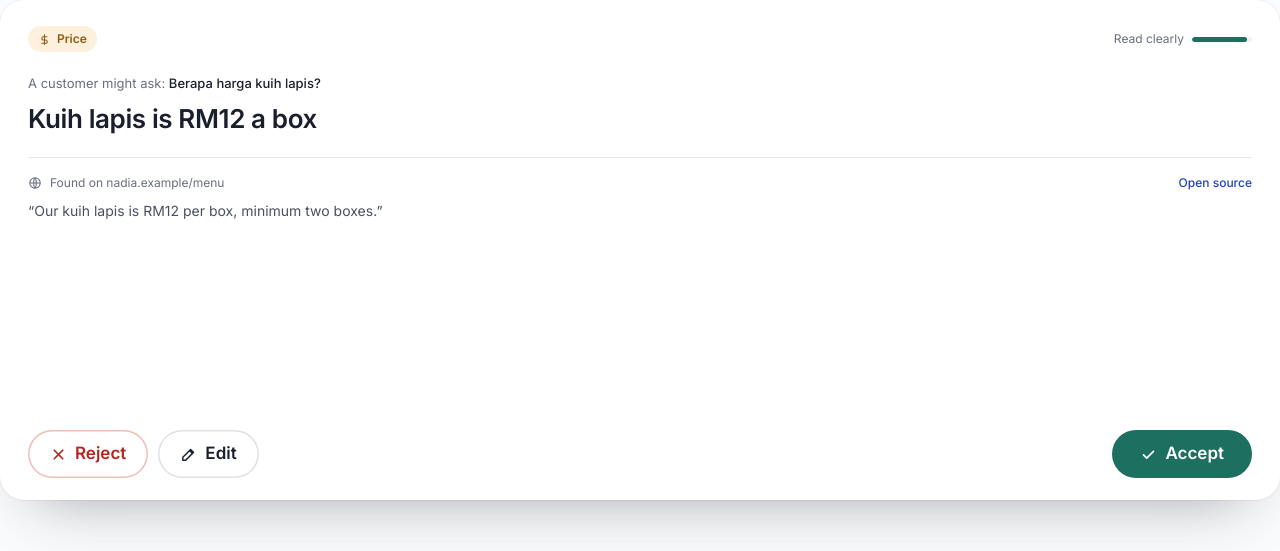
it: FactCard › closes the textarea after a successful edit
The width and height of the screenshot is (1280, 551).
Click the button "Edit". click: (208,454)
box: x1=158 y1=430 x2=259 y2=478
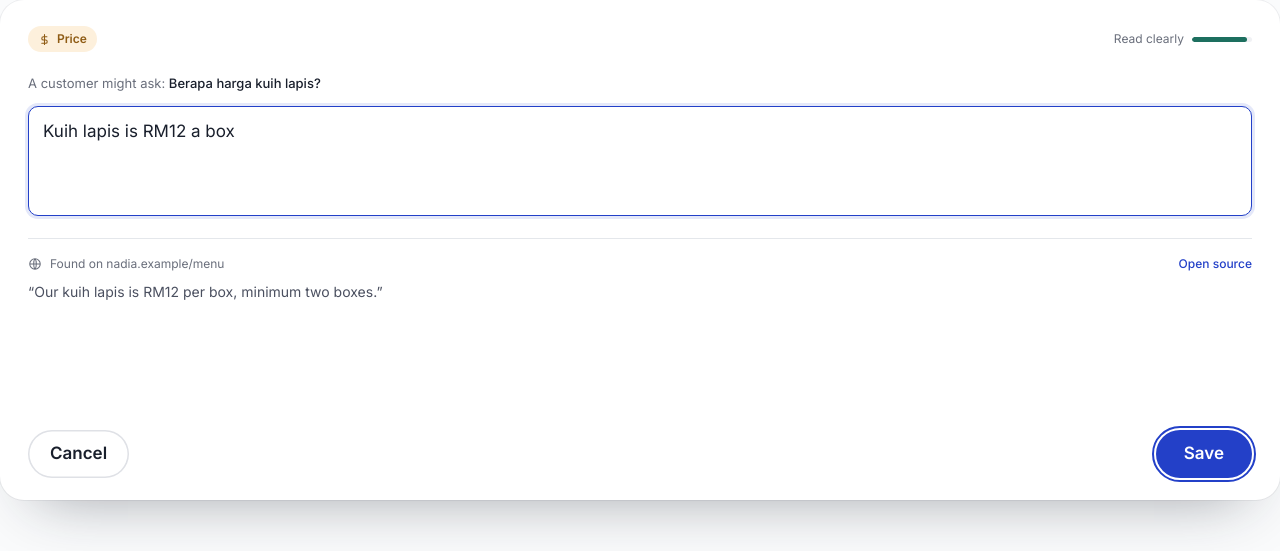
Replace the text in the text box with "Kuih lapis is RM14 a box". click: (640,160)
box: x1=28 y1=106 x2=1252 y2=216
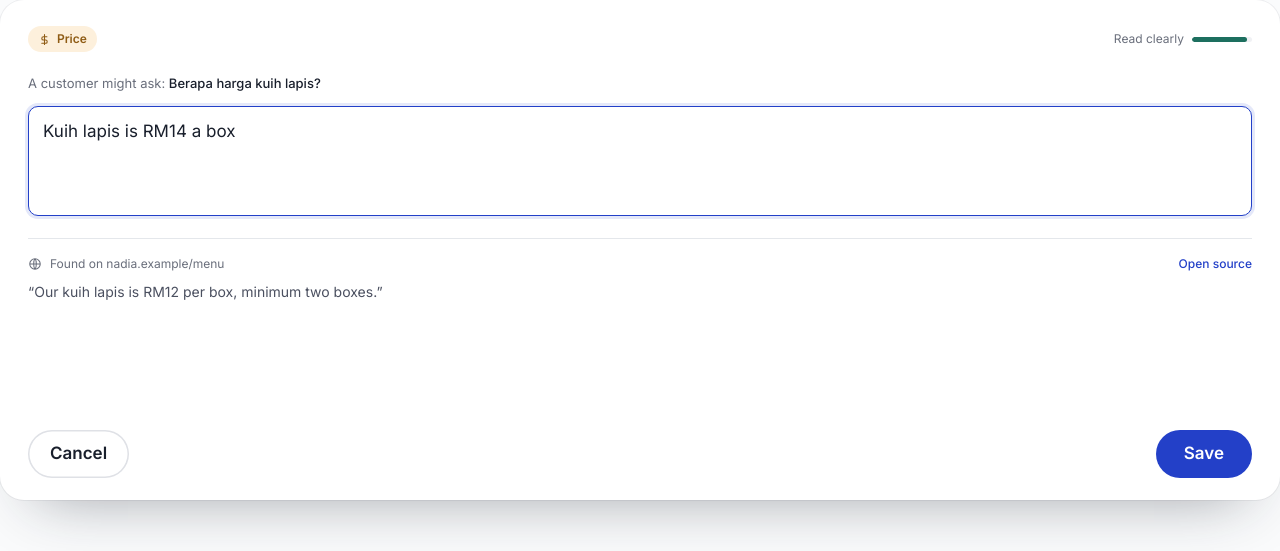
Click the button "Save". click: (1204,454)
box: x1=1156 y1=430 x2=1252 y2=478
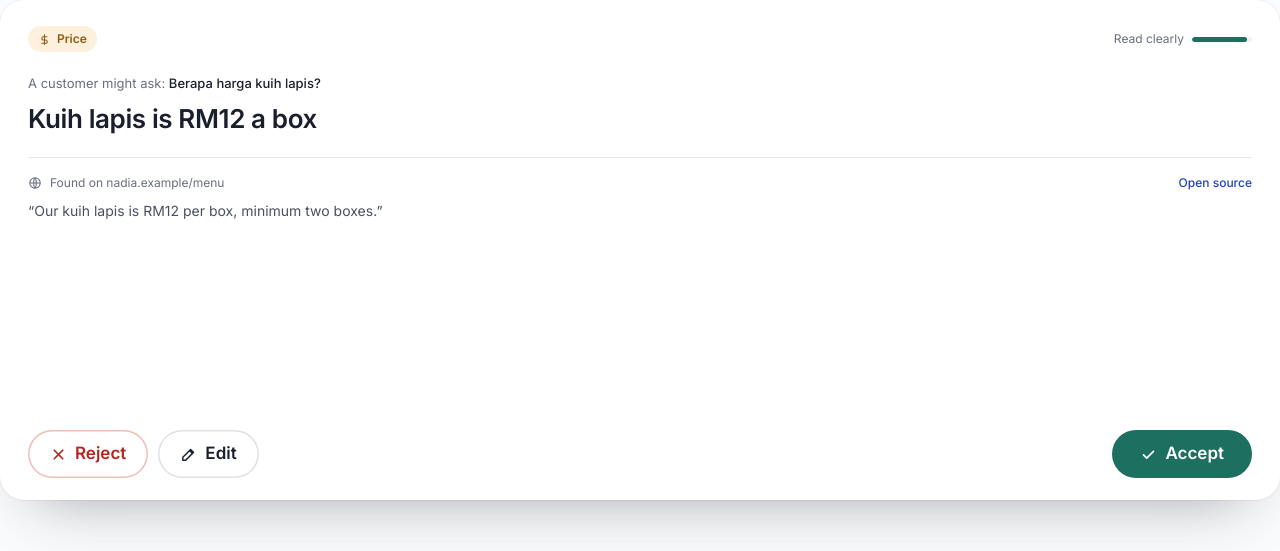
Now the button "Edit" is shown, box x1=158 y1=430 x2=259 y2=478
